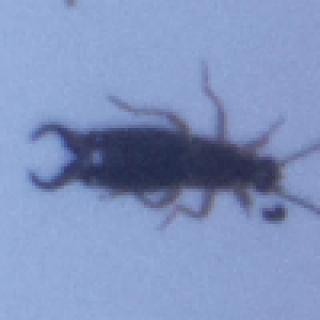earwig: (13, 61, 320, 237)
